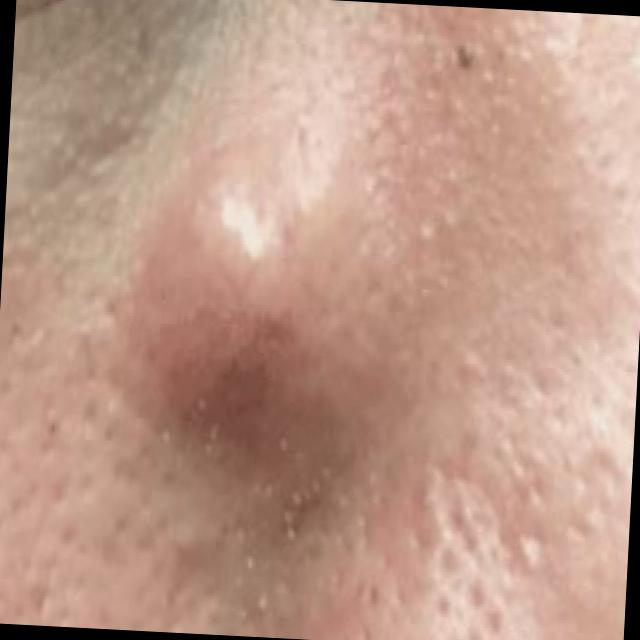nodule: (148, 127, 416, 470)
